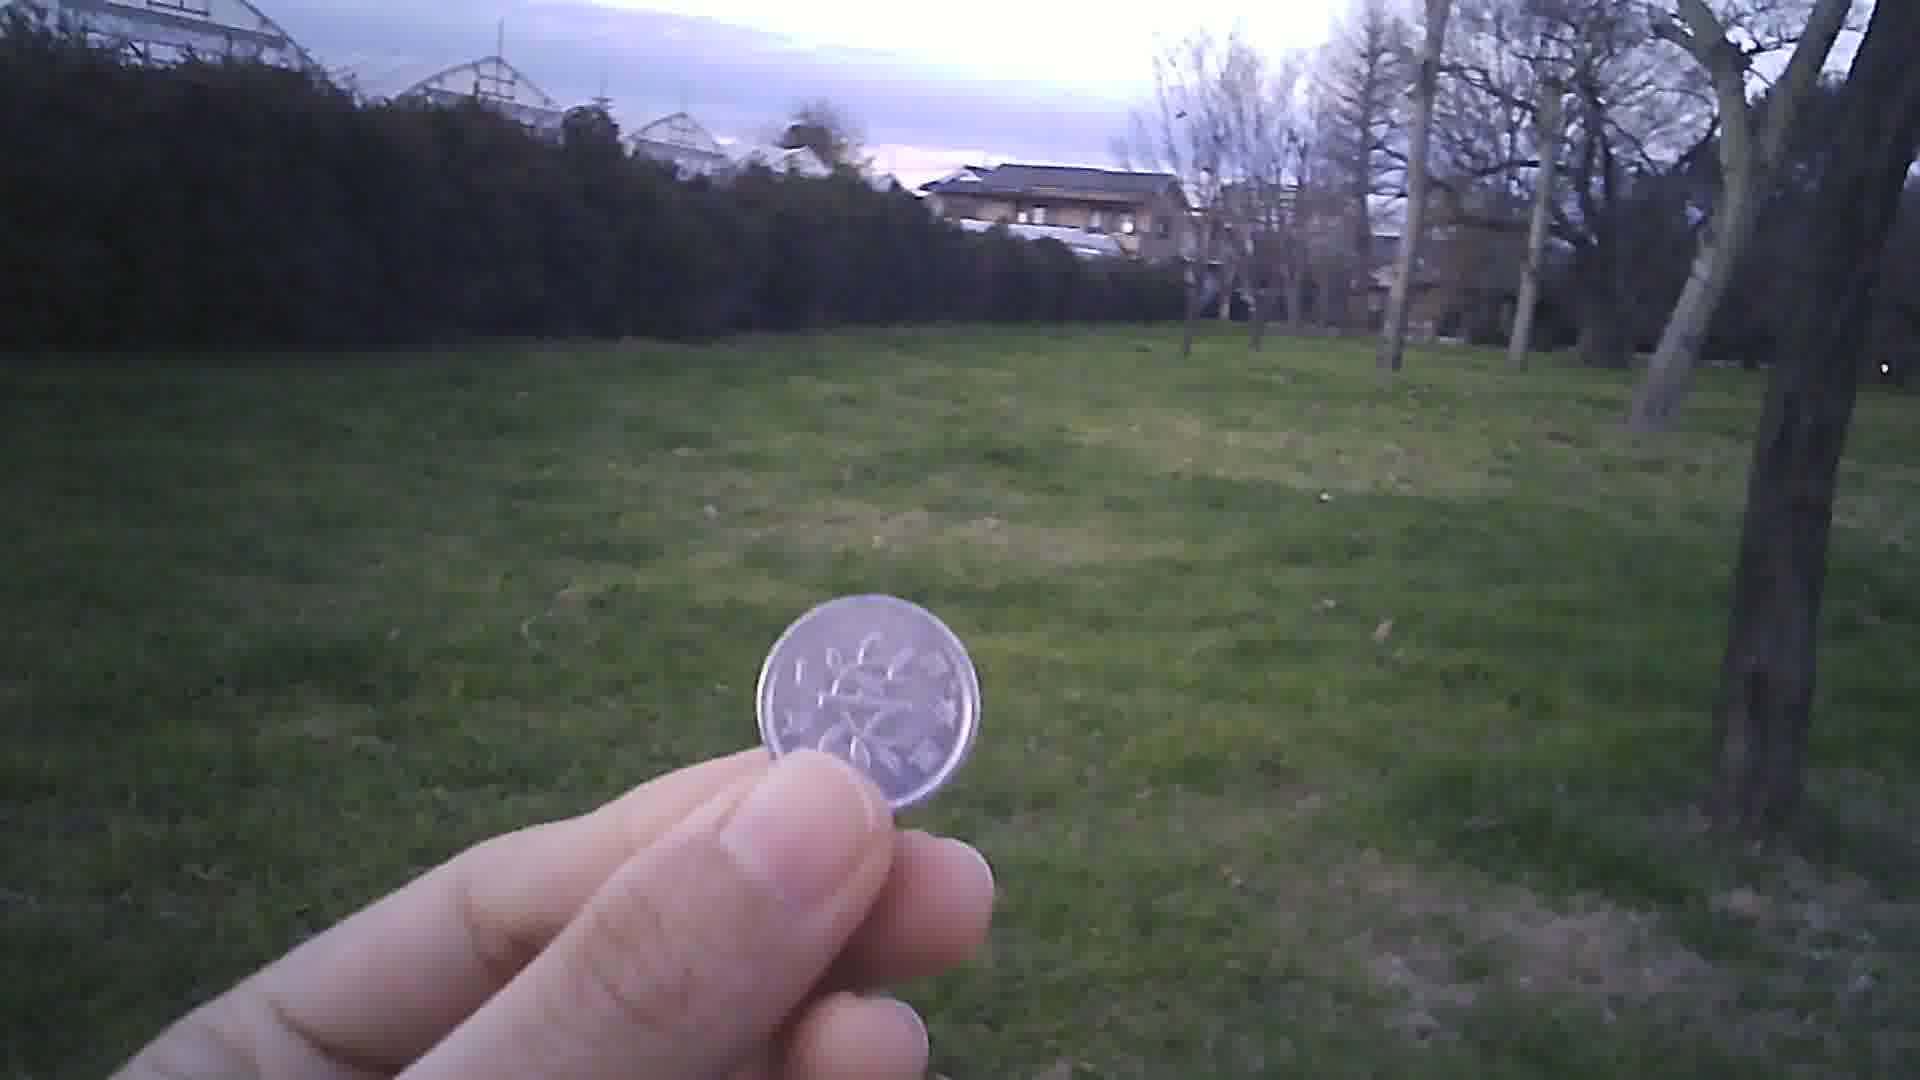1 Yen: (748, 579, 989, 818)
